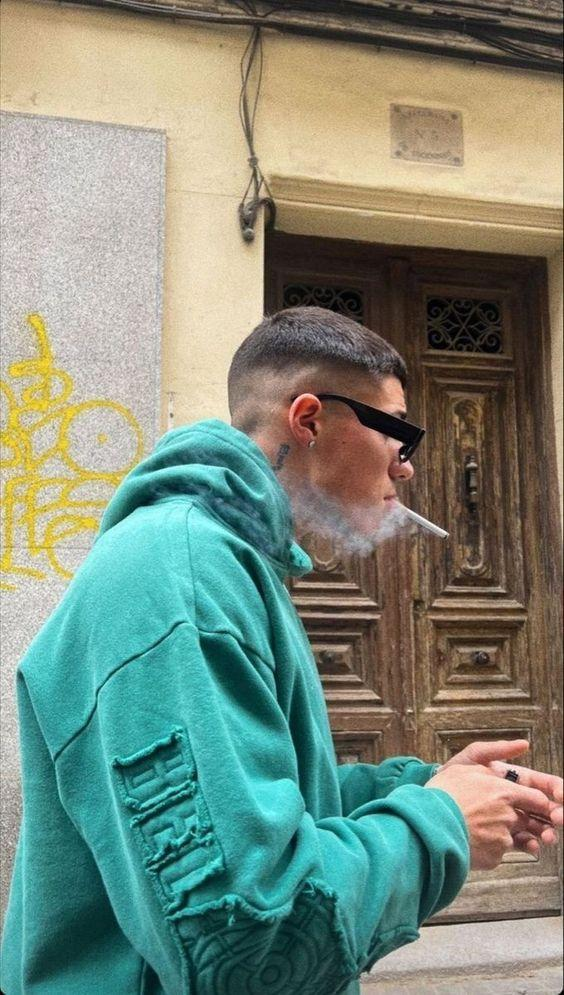cigarette: (389, 497, 450, 540)
